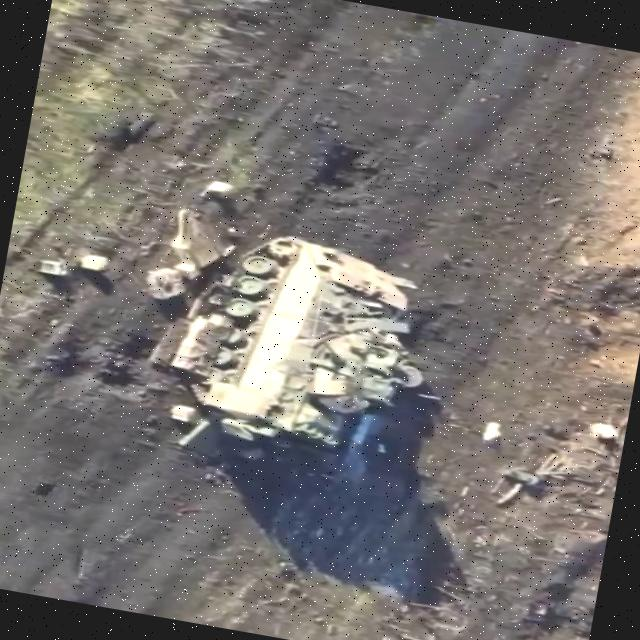AIFV: (179, 222, 441, 463)
